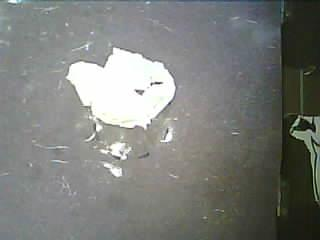paper: (67, 48, 176, 128)
